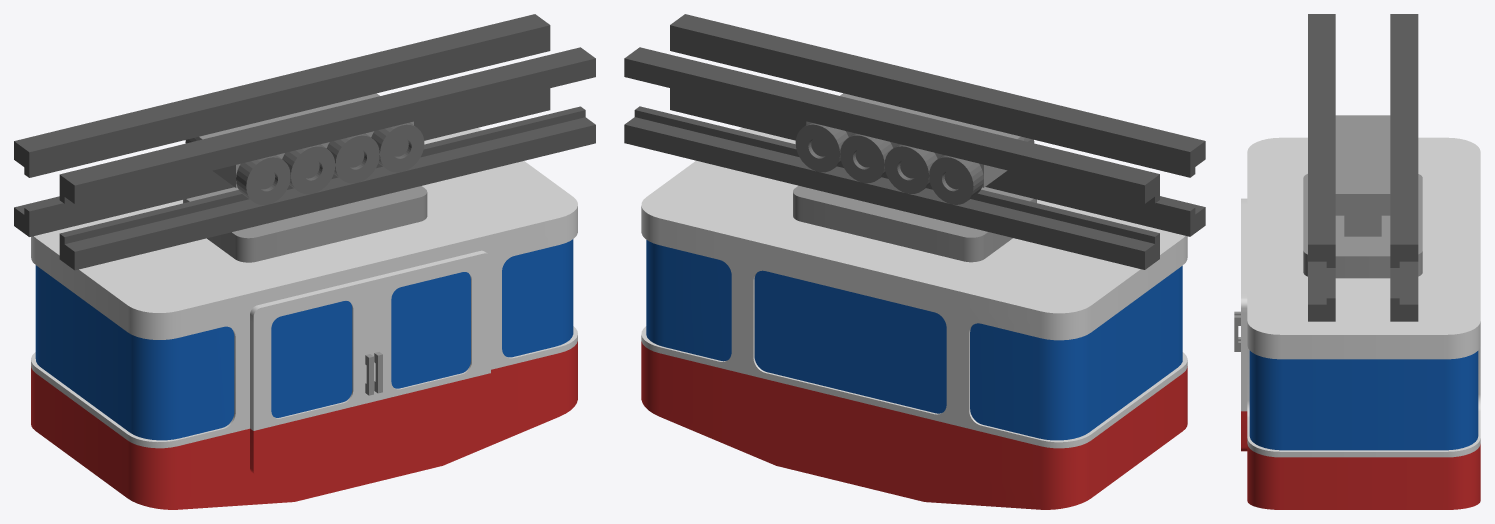
The model's file is suspension_railway.glb.
The picture shows the model from 3 angles, left to right: view 1: azimuth 30°, elevation 25°; view 2: azimuth 150°, elevation 25°; view 3: azimuth 270°, elevation 25°; orthographic projection. The views are drawn at different scales.
Parts seen in each view (by area): view 1: Cube.856; view 2: Cube.856; view 3: Cube.856.
Part boxes in pixels (bbox=[...]): Cube.856: bbox=[14, 14, 595, 509]; Cube.856: bbox=[624, 14, 1205, 509]; Cube.856: bbox=[1234, 14, 1480, 509].
Bounding box in the file's own units: 2.34 × 1.46 × 1.06.
Materials: 1 (1 with a texture image).
